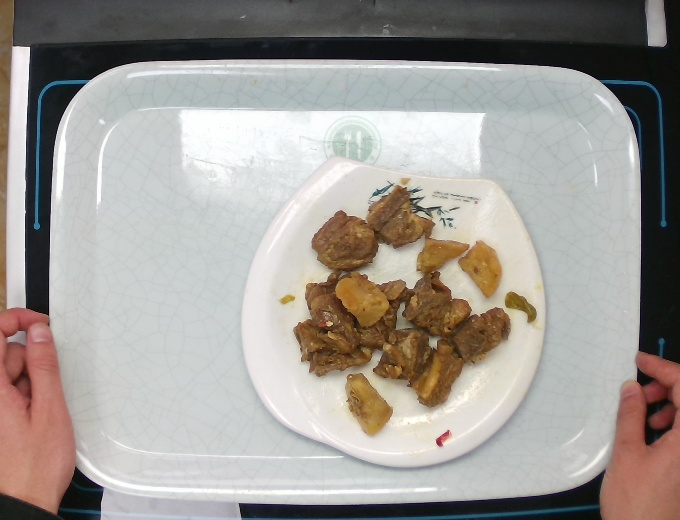JYsf-Mian_Pan: (230, 140, 554, 477)
